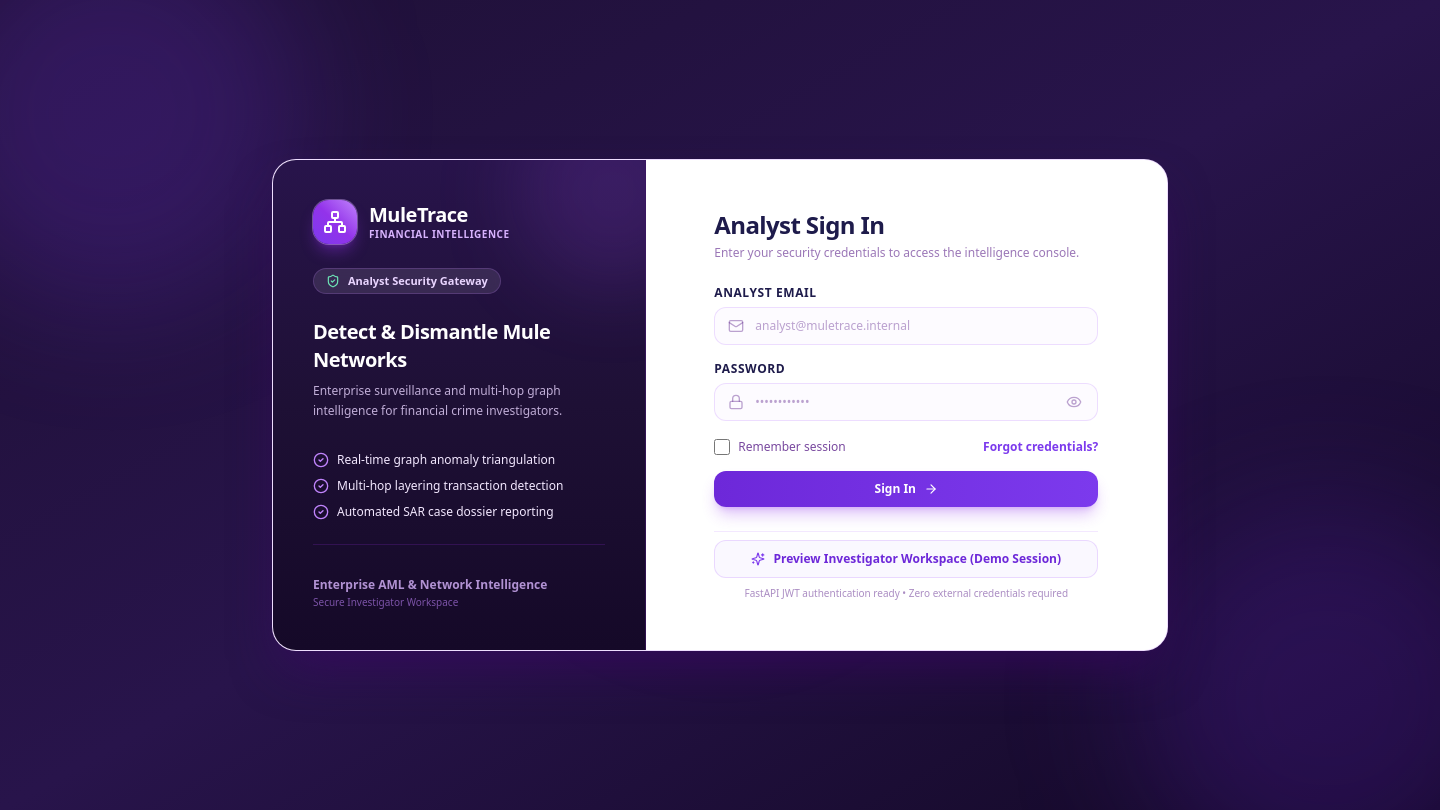
Scenario: LoginView Component › displays validation errors on invalid submission
Click the button "Sign In" at [906, 489], box [714, 471, 1098, 507]
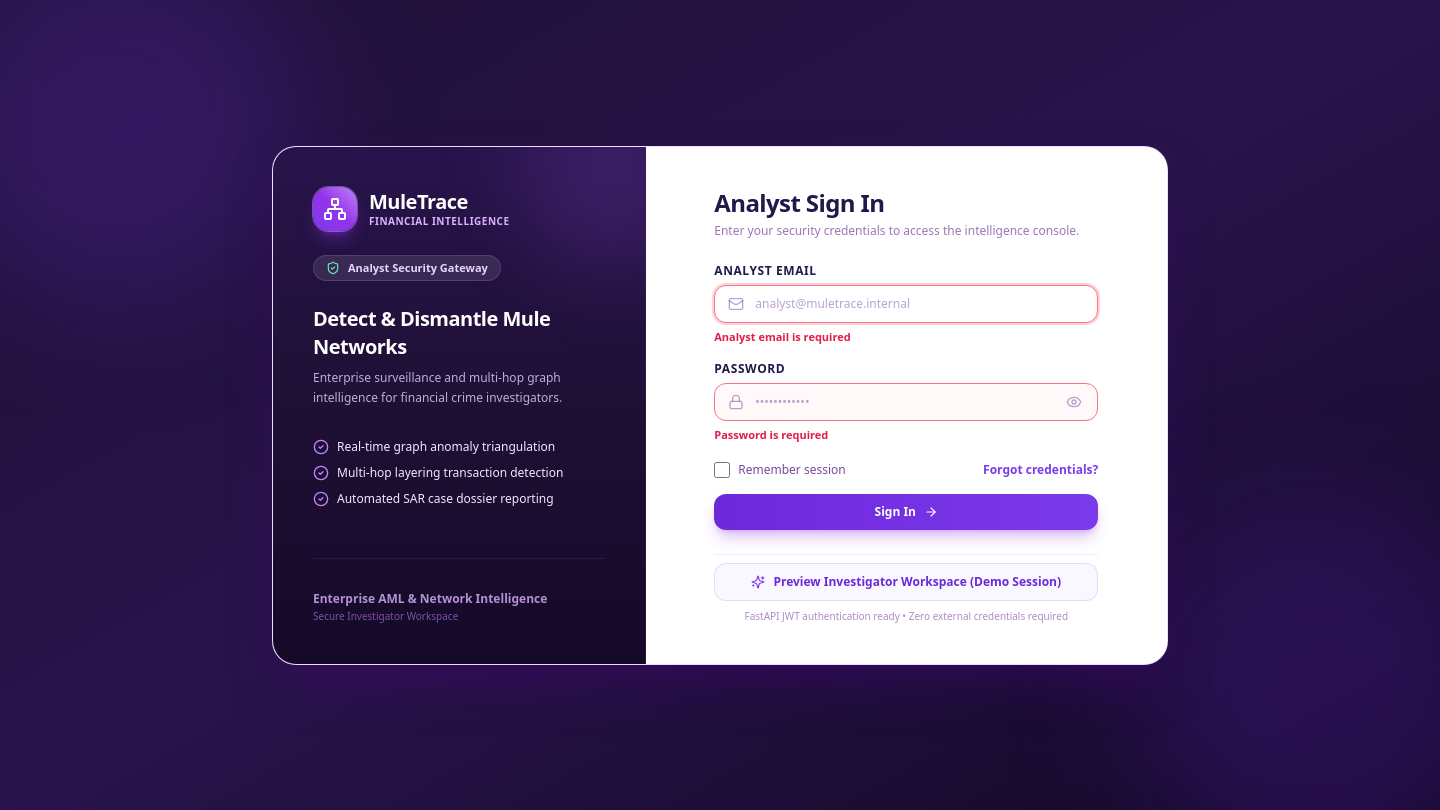
Check: the text "Analyst email is required" is shown, box [714, 328, 851, 344]
Check: the text "Password is required" is shown, box [714, 427, 828, 442]
Type "invalid-email" into the field labelled "Analyst Email" at [906, 304], box [714, 284, 1098, 322]
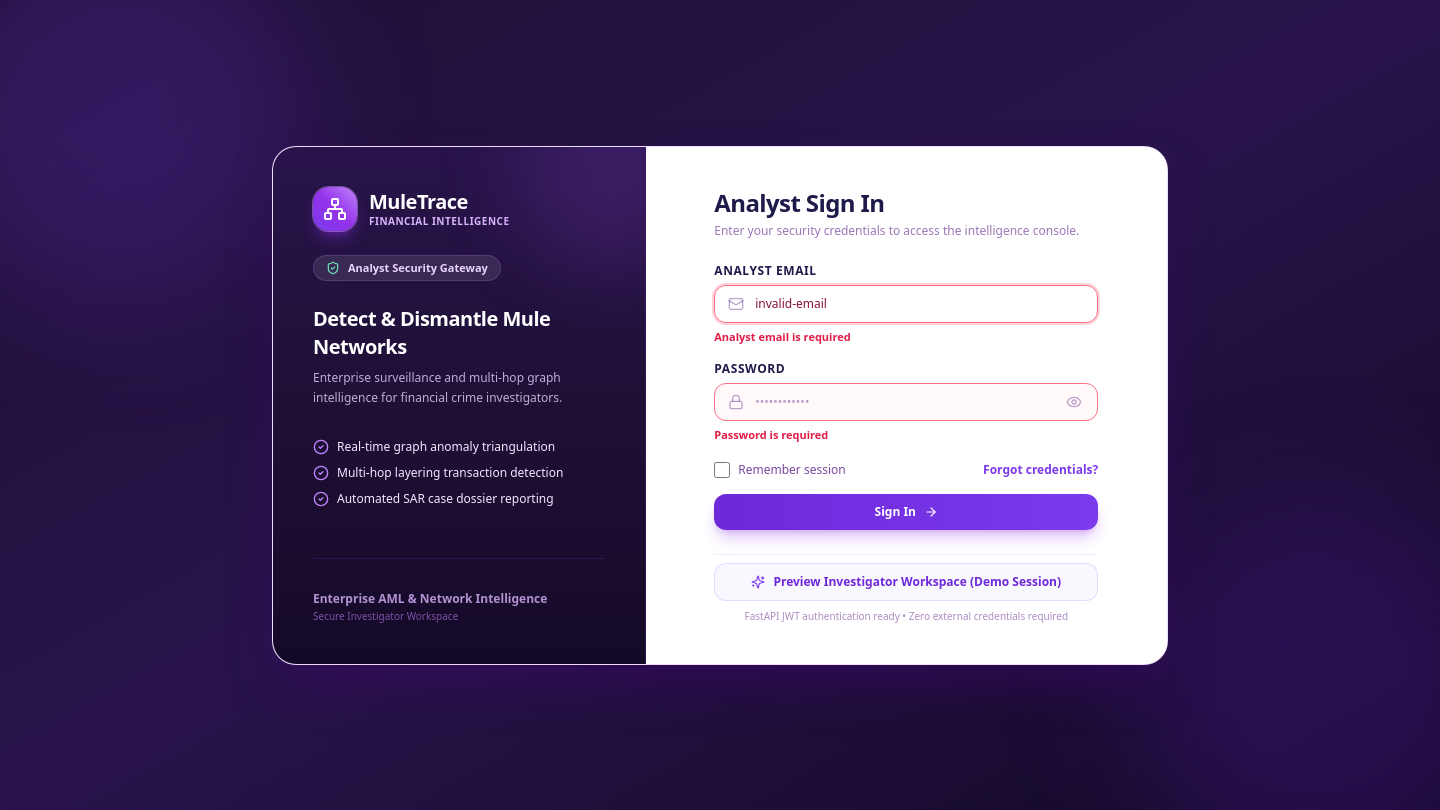
Type "short" into the password field labelled "Password" at [906, 402], box [714, 383, 1098, 421]
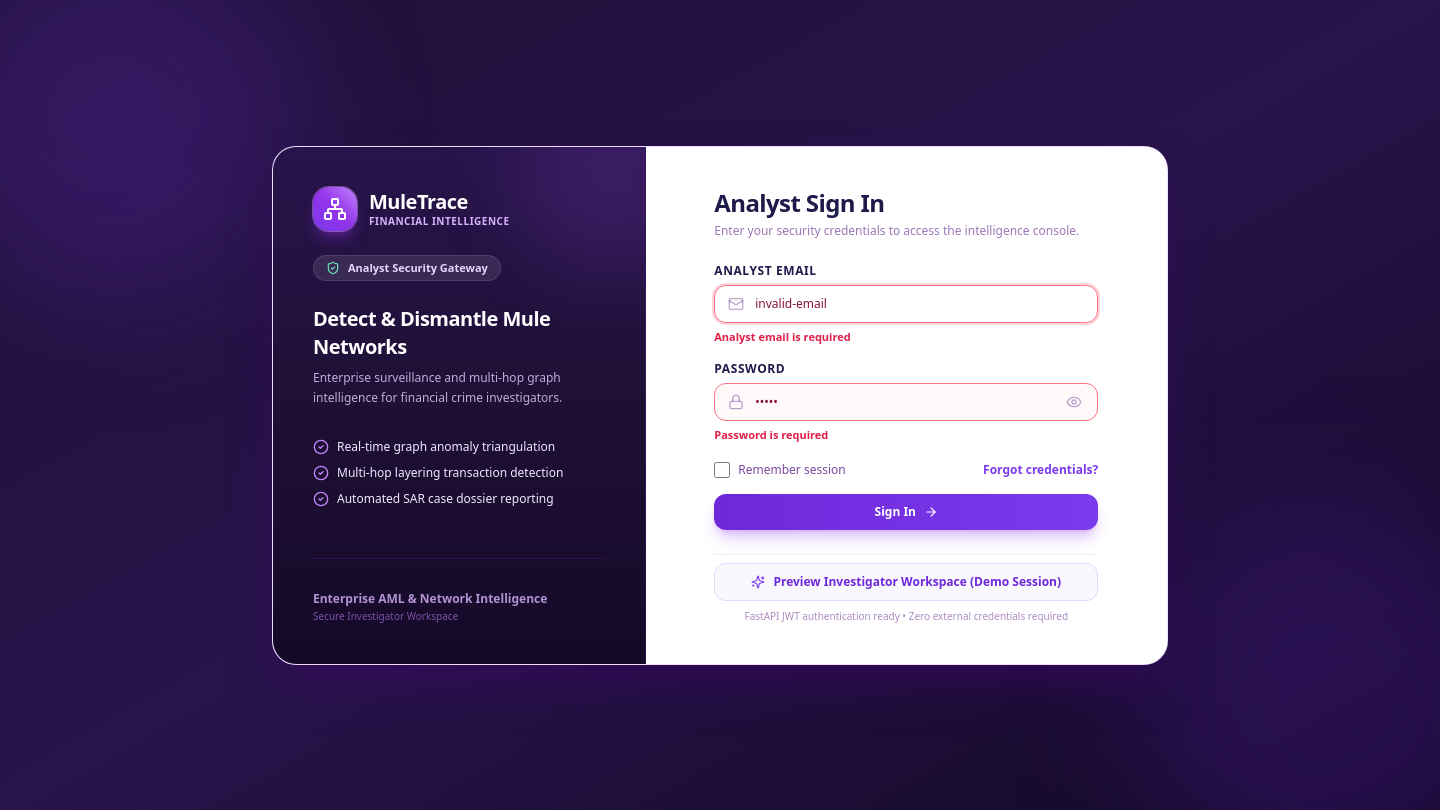
Click the button "Sign In" at [906, 512], box [714, 494, 1098, 530]
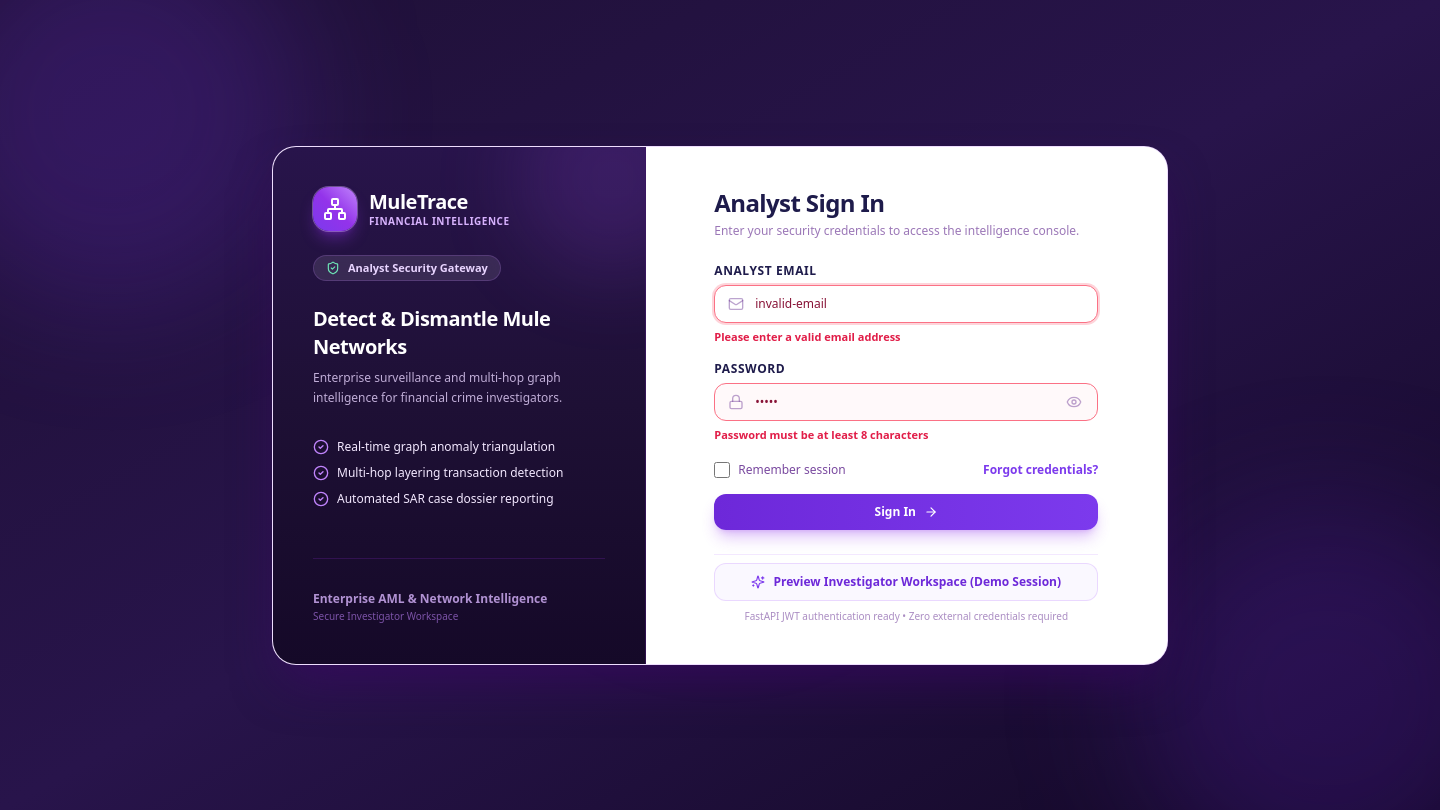
Check: the text "Please enter a valid email address" is shown, box [714, 328, 901, 344]
Check: the text "Password must be at least 8 characters" is shown, box [714, 427, 928, 442]
